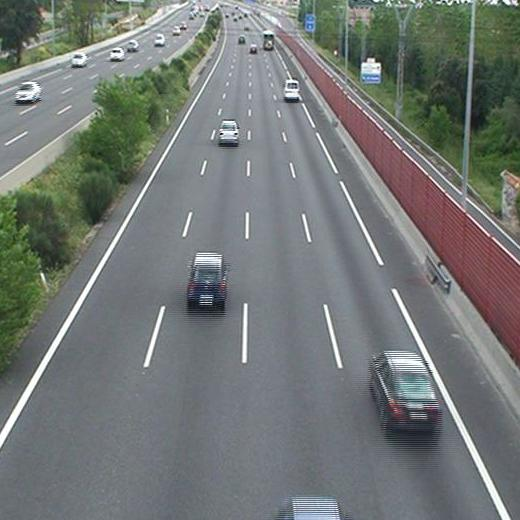bus: (263, 31, 275, 49)
car: (371, 351, 437, 430), (188, 254, 226, 304), (219, 121, 238, 143), (237, 35, 244, 42), (250, 45, 256, 53)
van: (284, 79, 299, 100)
